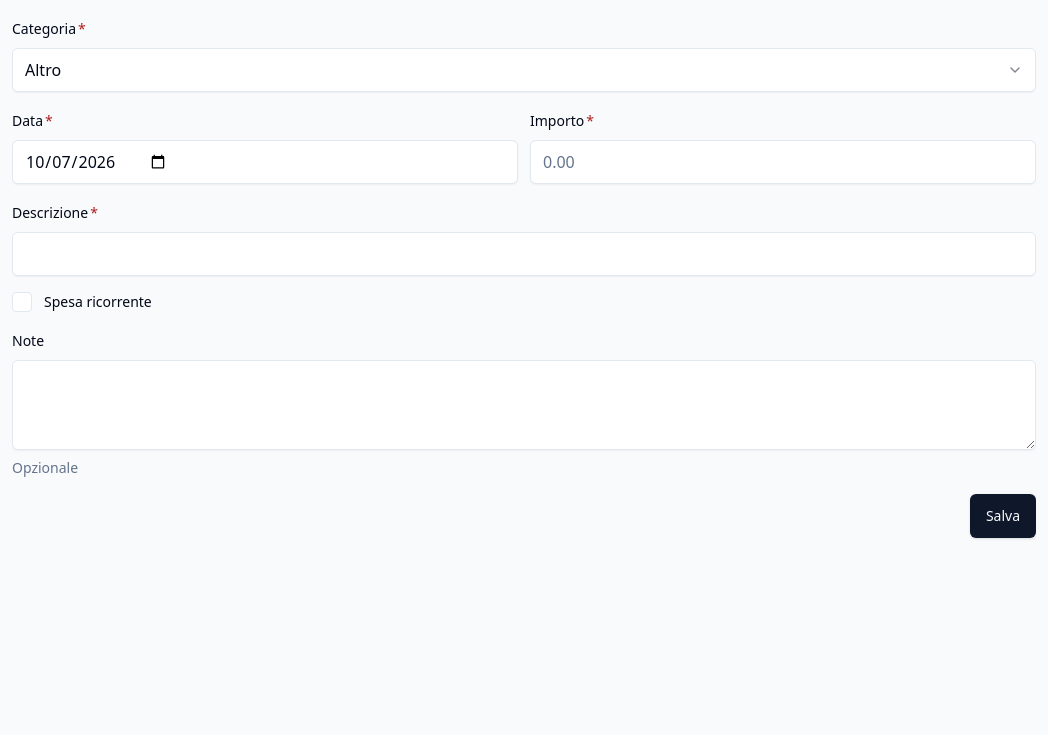
it: ExpenseForm — data di fine della ricorrenza › il campo "fino al" compare solo se la spesa è ricorrente
Check: the field labelled "Fino al" is not shown
Click the checkbox labelled "Spesa ricorrente".
click(22, 302)  # box [12,292,32,312]
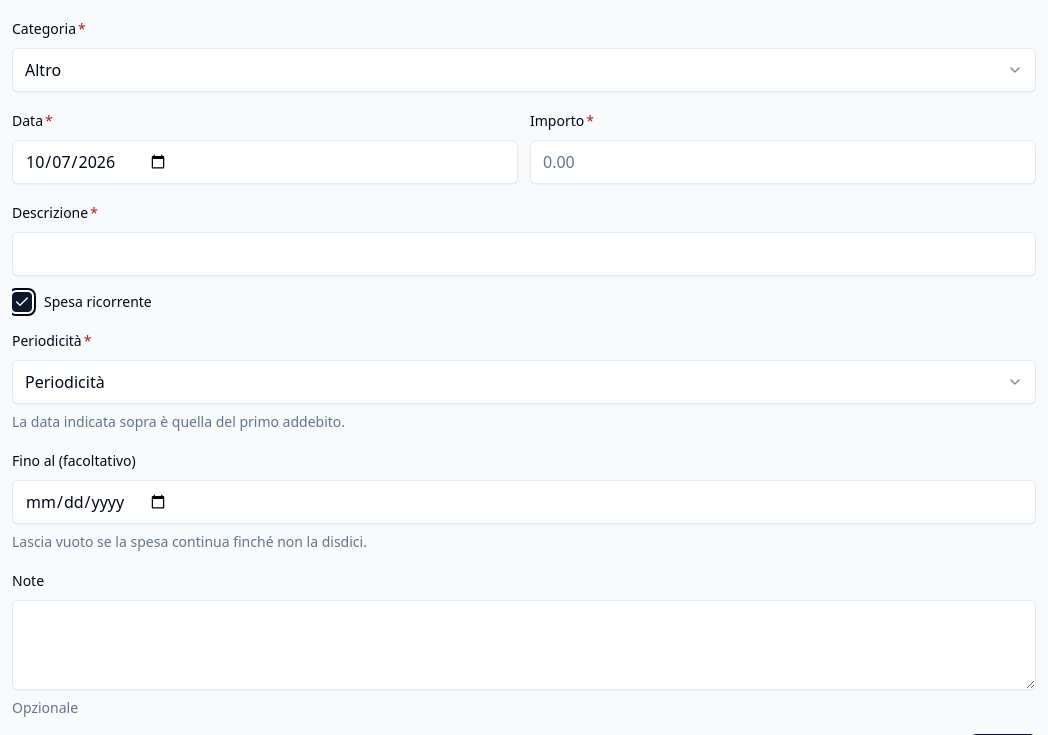
Check: the date field labelled "Fino al (facoltativo)" is shown, box [12,480,1036,524]
Check: the text "Lascia vuoto se la spesa continua finché non la disdici." is shown, box [12,532,367,551]
Click the checkbox labelled "Spesa ricorrente".
click(22, 302)  # box [12,292,32,312]
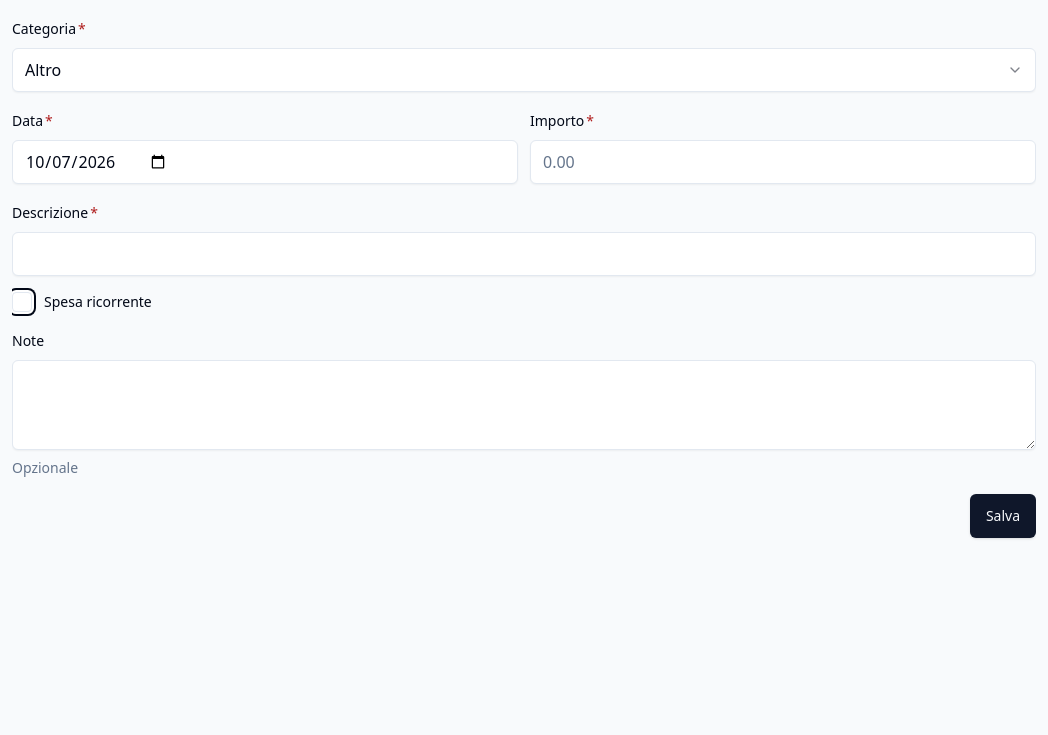
Check: the label labelled "Fino al" is gone
